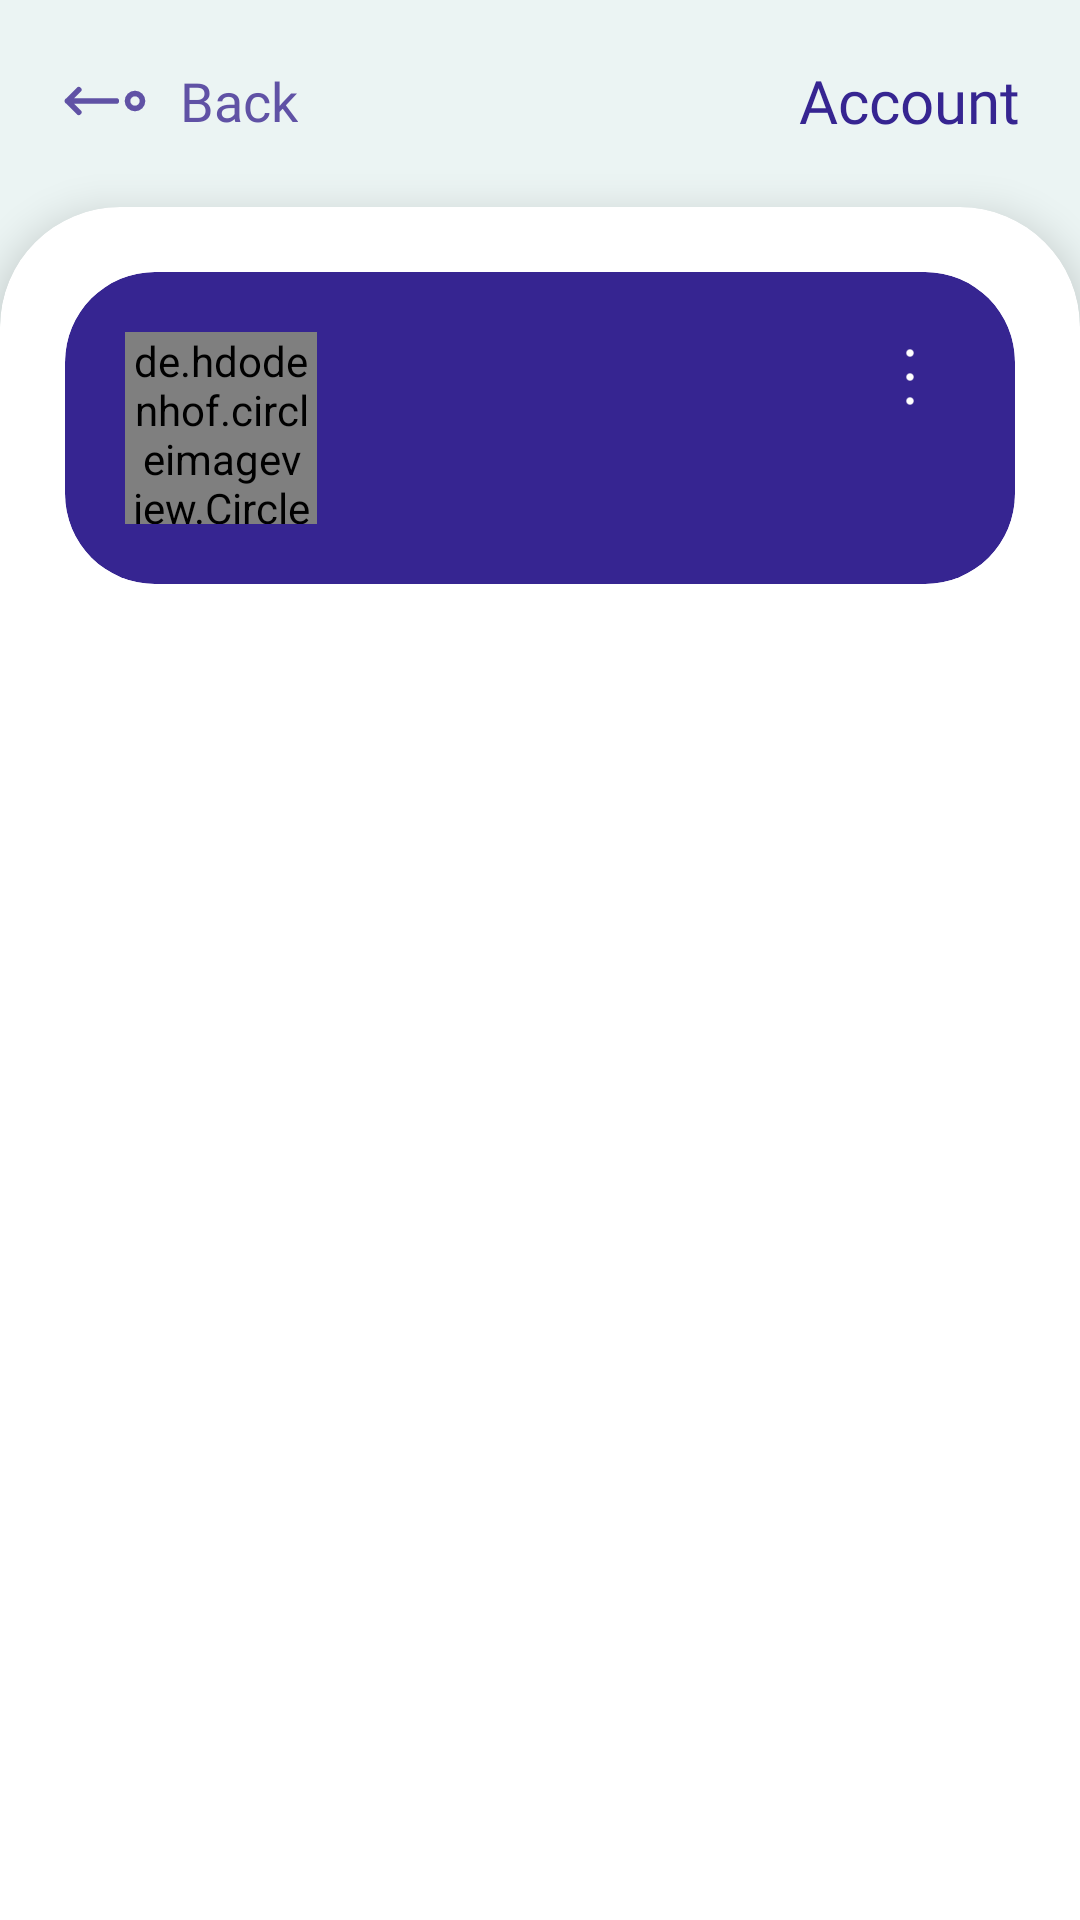

Named icons in this screenshot (1080x1920) and their bounding boxes, BBox(x1, y1, x2, y2):
dot arrow left: BBox(64, 86, 146, 116)
